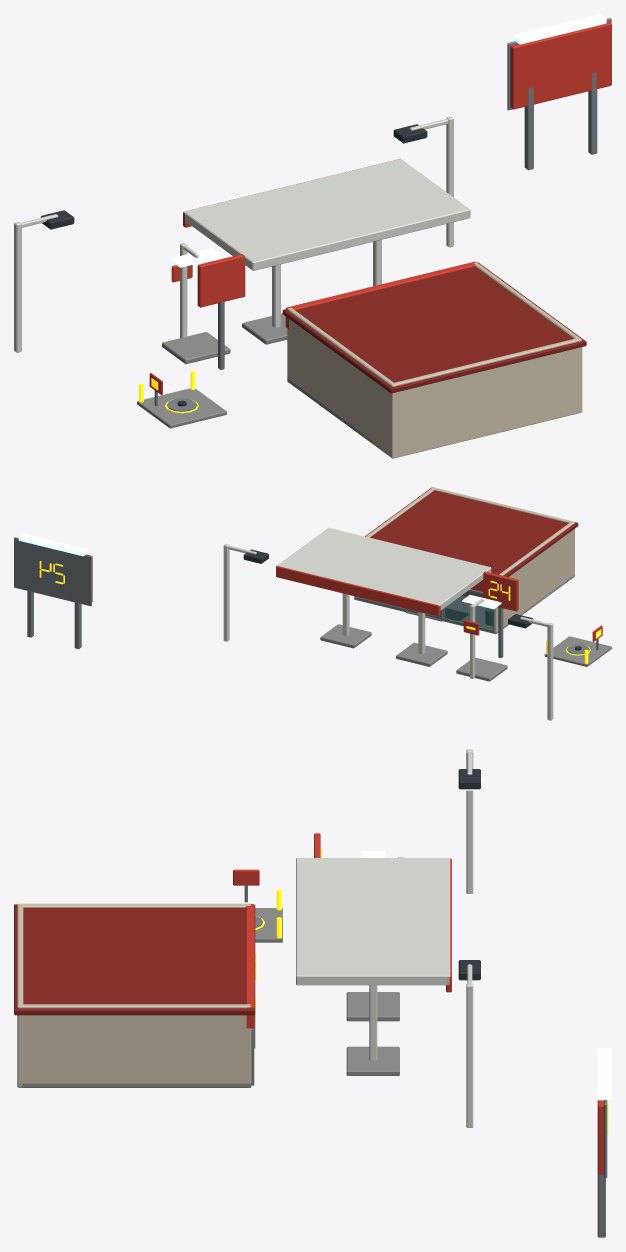
Rendered from station.glb.
3 renders of one model, top to bottom at view 1: azimuth 30°, elevation 25°; view 2: azimuth 150°, elevation 25°; view 3: azimuth 270°, elevation 25°, orthographic. The views are drawn at different scales.
Parts seen in each view (by area): view 1: Roof, Canopy, BackWall, LeftWall, UpgradeSignPanel, RoadSign, TankPad, PumpIsland.002, RedFascia, UpgradeSignLamp, UpgradeLightMast, PumpIsland (+5 smaller); view 2: Roof, Canopy, UpgradeSignFrame, LeftWall, CanopyStripe, ShopFloor, RoadSign, EntranceGlassLeft, TankPad, PumpIsland, PumpIsland.001, PumpIsland.002 (+9 smaller); view 3: Roof, Canopy, RightWall, PumpIsland.001, PumpIsland, BackWall, ShopFloor, UpgradeLightMast.001, RedFascia, LeftWall, UpgradeLightMast, UpgradeSignLamp (+2 smaller).
Part boxes in pixels (x1,y1,x2,y2): Roof: (282, 262, 586, 393); Canopy: (183, 158, 470, 270); BackWall: (390, 337, 582, 458); LeftWall: (287, 307, 393, 456); UpgradeSignPanel: (510, 22, 611, 109); RoadSign: (197, 254, 245, 307); TankPad: (137, 388, 226, 428); PumpIsland.002: (162, 332, 230, 364); RedFascia: (285, 261, 475, 328); UpgradeSignLamp: (513, 14, 606, 44); UpgradeLightMast: (14, 221, 21, 352); PumpIsland: (242, 313, 287, 344); Roof: (365, 487, 578, 581); Canopy: (277, 527, 491, 610); UpgradeSignFrame: (14, 537, 91, 606); LeftWall: (495, 521, 574, 632); CanopyStripe: (276, 566, 440, 616); ShopFloor: (356, 574, 574, 634); RoadSign: (483, 571, 518, 611); EntranceGlassLeft: (444, 591, 492, 632); TankPad: (544, 636, 611, 666); PumpIsland: (396, 642, 447, 666); PumpIsland.001: (320, 624, 371, 648); PumpIsland.002: (456, 657, 507, 681); Roof: (14, 904, 255, 1015); Canopy: (296, 858, 450, 985); RightWall: (18, 1004, 251, 1083); PumpIsland.001: (346, 1046, 399, 1075); PumpIsland: (346, 992, 399, 1021); BackWall: (17, 903, 23, 1087); ShopFloor: (19, 1083, 251, 1087); UpgradeLightMast.001: (466, 983, 473, 1127); RedFascia: (245, 904, 254, 1028); LeftWall: (19, 903, 250, 907); UpgradeLightMast: (466, 749, 473, 893); UpgradeSignLamp: (596, 1048, 611, 1100).
Size of the model in its own units: 33.16 by 6.42 by 23.55.
